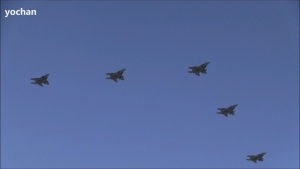flight: (187, 60, 211, 77), (216, 102, 239, 117), (30, 72, 52, 87), (105, 67, 127, 82), (245, 151, 268, 163)
